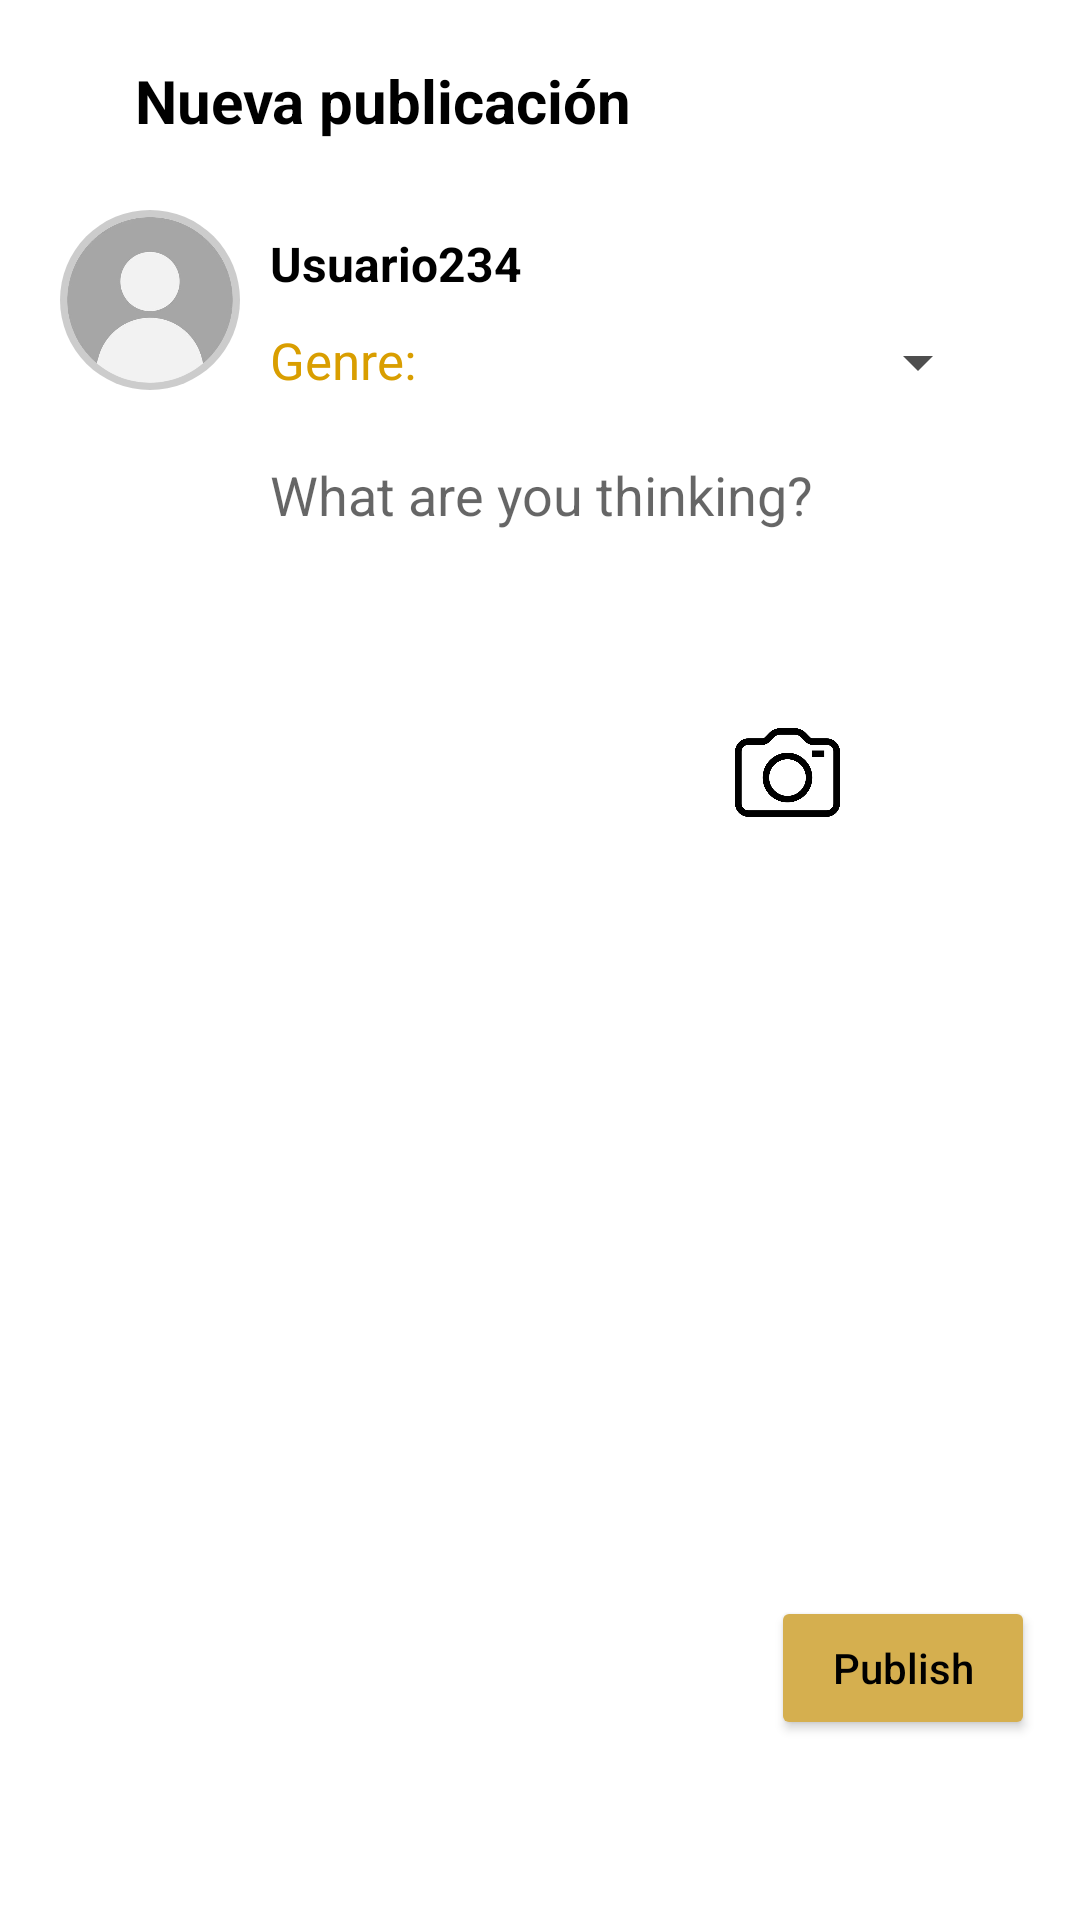

Screen size 1080×1920. Icon name, then its center in pixels as (x=x, y=y):
Abrir cámara: (x=787, y=772)
boy: (x=150, y=300)
